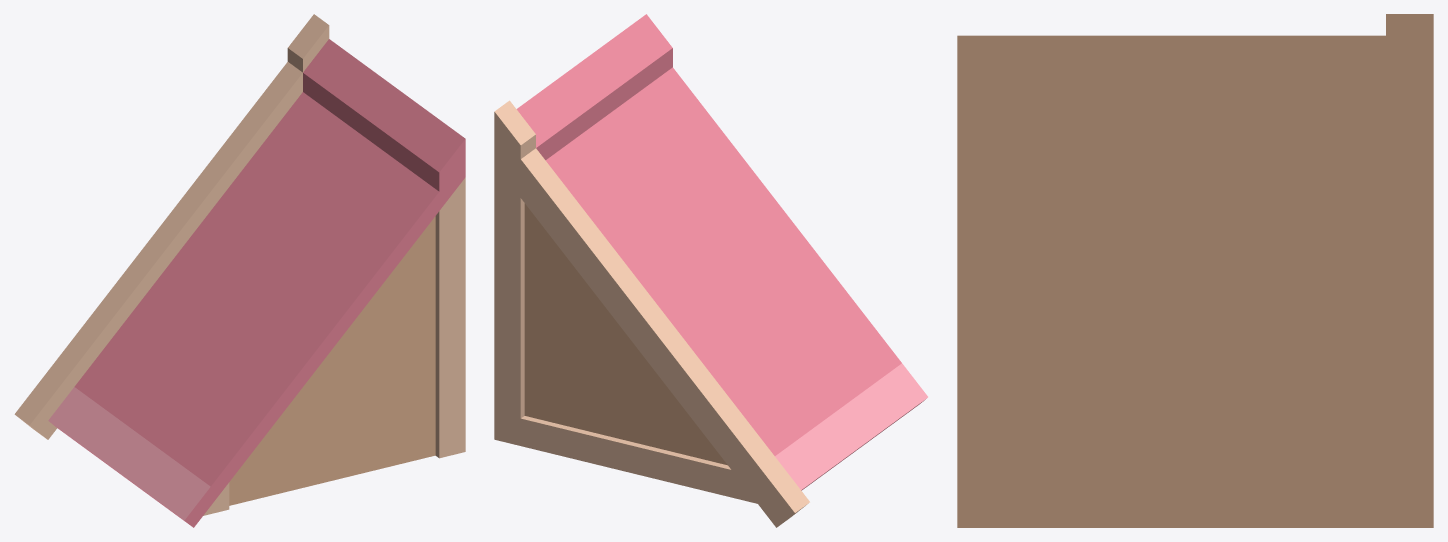
File: roofHighLeft.fbx
3 views of the same model, side by side, from view 1: azimuth 30°, elevation 25°; view 2: azimuth 150°, elevation 25°; view 3: azimuth 270°, elevation 25° (orthographic). The views are drawn at different scales.
Visible parts, largest first — view 1: roofHighLeft; view 2: roofHighLeft; view 3: roofHighLeft.
Boxes of the visible parts, x1,y1,x2,y2 form: roofHighLeft: (14,14,465,527); roofHighLeft: (494,14,927,527); roofHighLeft: (957,14,1433,527).
Size of the model in its own units: 114 by 126 by 100.
